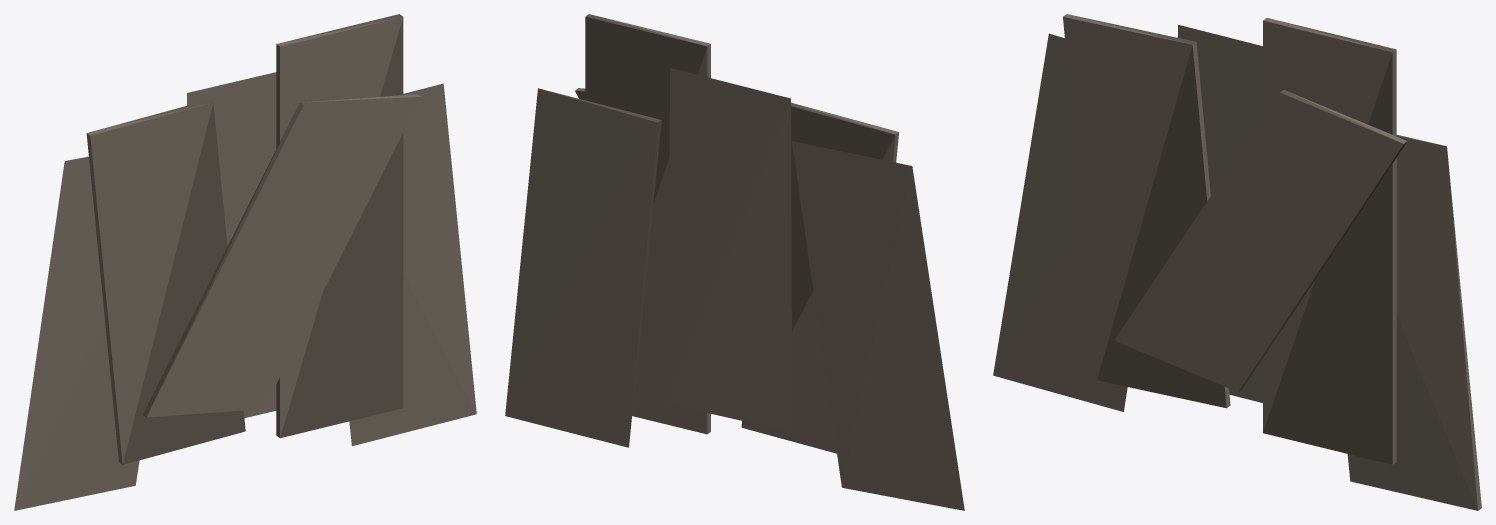
Rendered from wall_patch.glb.
The picture shows the model from 3 angles, left to right: view 1: azimuth 30°, elevation 25°; view 2: azimuth 150°, elevation 25°; view 3: azimuth 330°, elevation 25°; orthographic projection. The views are drawn at different scales.
Visible parts, largest first — view 1: wall_patch; view 2: wall_patch; view 3: wall_patch.
Part boxes in pixels (<box>): wall_patch: <box>14,14,476,510</box>; wall_patch: <box>505,14,964,510</box>; wall_patch: <box>993,14,1481,510</box>.
Size of the model in its own units: 0.48 by 0.42 by 0.02.
